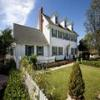chimneys: (39, 6, 43, 32)
